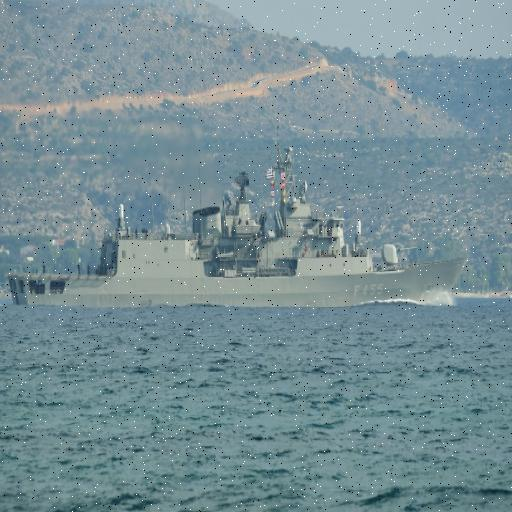Fragata: (5, 117, 471, 314)
